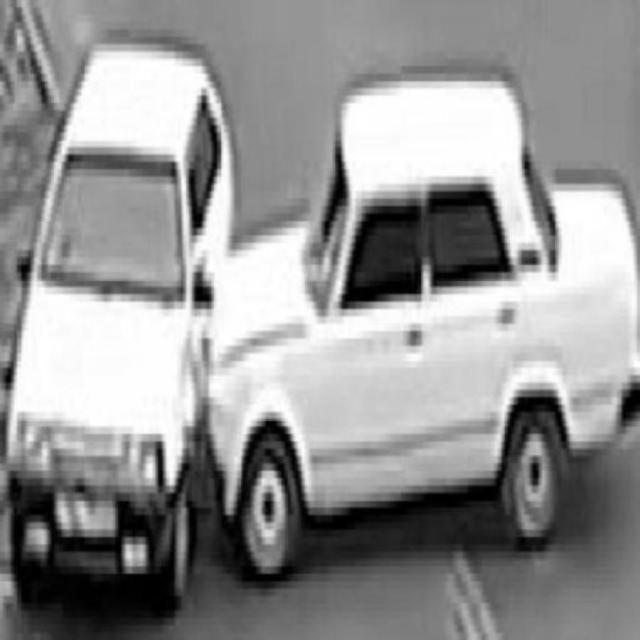accident: (16, 100, 633, 561)
